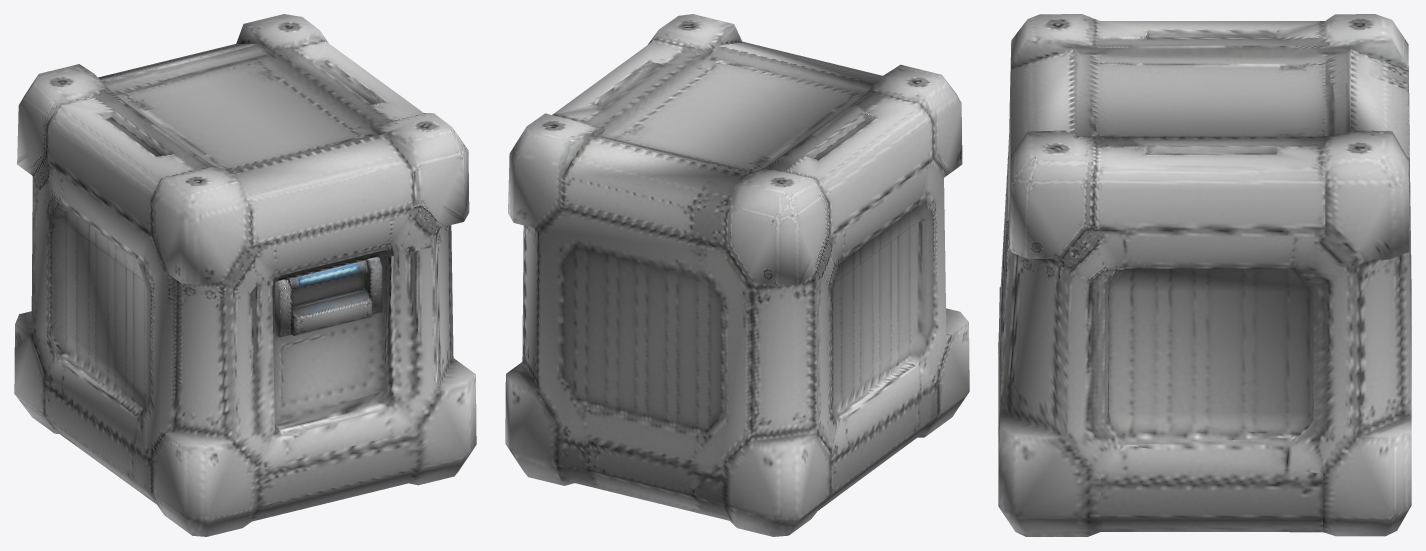
File: crate_white.glb
The picture shows the model from 3 angles, left to right: view 1: azimuth 30°, elevation 25°; view 2: azimuth 150°, elevation 25°; view 3: azimuth 270°, elevation 25°; orthographic projection. The views are drawn at different scales.
Visible parts, largest first — view 1: tripo_node_d7063b7d-1554-4d68-a604-1c4ecb77bf81; view 2: tripo_node_d7063b7d-1554-4d68-a604-1c4ecb77bf81; view 3: tripo_node_d7063b7d-1554-4d68-a604-1c4ecb77bf81.
Part boxes in pixels (<box>): tripo_node_d7063b7d-1554-4d68-a604-1c4ecb77bf81: <box>14,14,476,536</box>; tripo_node_d7063b7d-1554-4d68-a604-1c4ecb77bf81: <box>505,14,969,536</box>; tripo_node_d7063b7d-1554-4d68-a604-1c4ecb77bf81: <box>998,14,1411,536</box>.
Bounding box in the file's own units: 0.9082 × 0.998 × 0.9902.
1 material, 1 textured.
